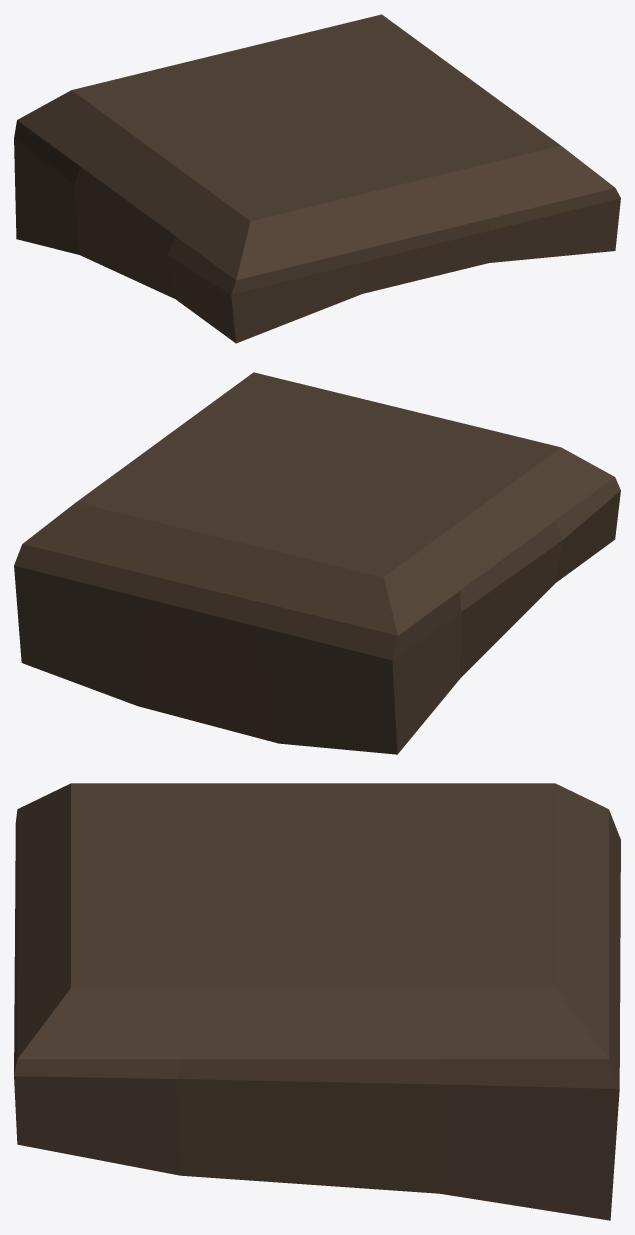
File: Item_Gear_Helmet_Basic.fbx
3 renders of one model, top to bottom at view 1: azimuth 30°, elevation 25°; view 2: azimuth 150°, elevation 25°; view 3: azimuth 270°, elevation 25°, orthographic. The views are drawn at different scales.
Visible parts, largest first — view 1: Gear_Helmet_Basic; view 2: Gear_Helmet_Basic; view 3: Gear_Helmet_Basic.
Part boxes in pixels (x1,y1,x2,y2): Gear_Helmet_Basic: [14, 14, 620, 343]; Gear_Helmet_Basic: [14, 372, 620, 754]; Gear_Helmet_Basic: [14, 783, 620, 1220].
Size of the model in its own units: 22.73 by 9.62 by 22.57.
